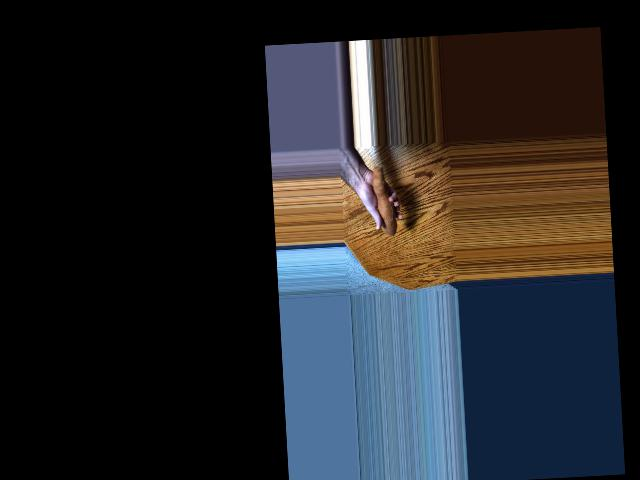sweet_potato: (365, 158, 398, 238)
